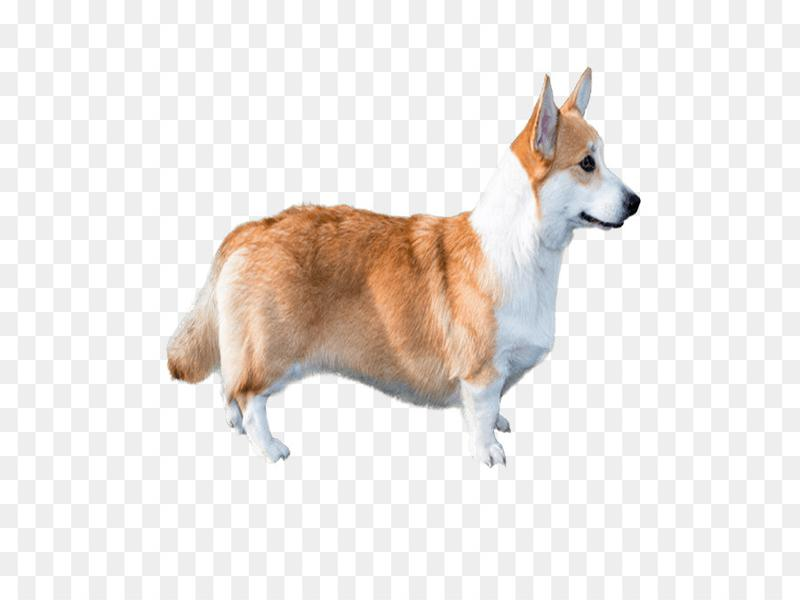corgi: (509, 67, 643, 235)
